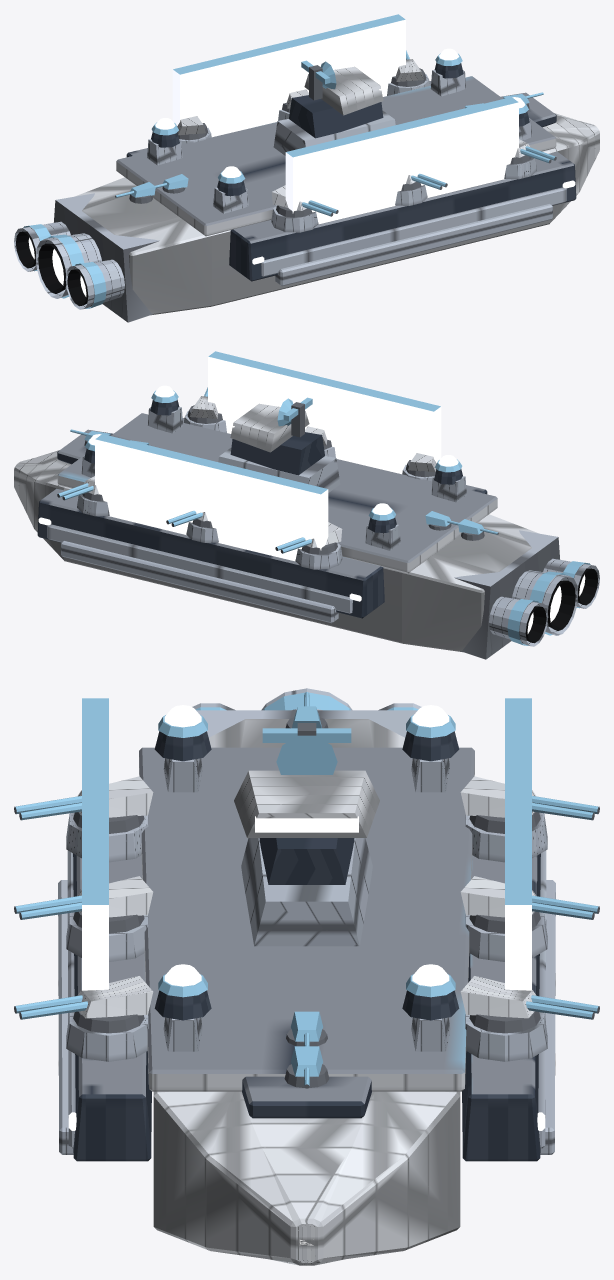
The model's file is cruiser.glb.
3 renders of one model, top to bottom at view 1: azimuth 30°, elevation 25°; view 2: azimuth 150°, elevation 25°; view 3: azimuth 270°, elevation 25°, orthographic. The views are drawn at different scales.
Visible parts, largest first — view 1: hull_body, engine_block, sensor_tower, weapon_turrets, shield_pylons; view 2: hull_body, engine_block, sensor_tower, weapon_turrets, shield_pylons; view 3: hull_body, weapon_turrets, sensor_tower, shield_pylons, engine_block.
Part boxes in pixels (x1,y1,x2,y2): hull_body: [75, 14, 599, 315]; engine_block: [14, 193, 159, 322]; sensor_tower: [273, 60, 395, 155]; weapon_turrets: [115, 50, 556, 232]; shield_pylons: [147, 48, 532, 213]; hull_body: [14, 351, 538, 652]; engine_block: [454, 530, 599, 659]; sensor_tower: [218, 397, 340, 492]; weapon_turrets: [57, 387, 498, 569]; shield_pylons: [81, 385, 466, 550]; hull_body: [58, 698, 555, 1265]; weapon_turrets: [14, 692, 599, 1088]; sensor_tower: [234, 723, 379, 946]; shield_pylons: [154, 705, 459, 1051]; engine_block: [192, 688, 421, 737].
Size of the model in its own units: 42 by 13.22 by 20.87.
1 material, 1 textured.
